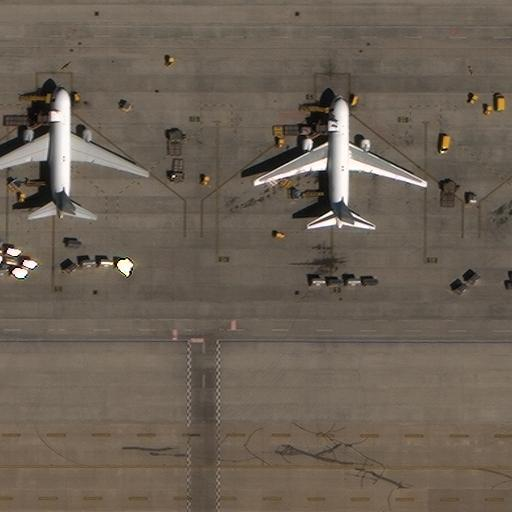Large Civil Transport: (254, 93, 426, 228), (0, 83, 148, 218)
